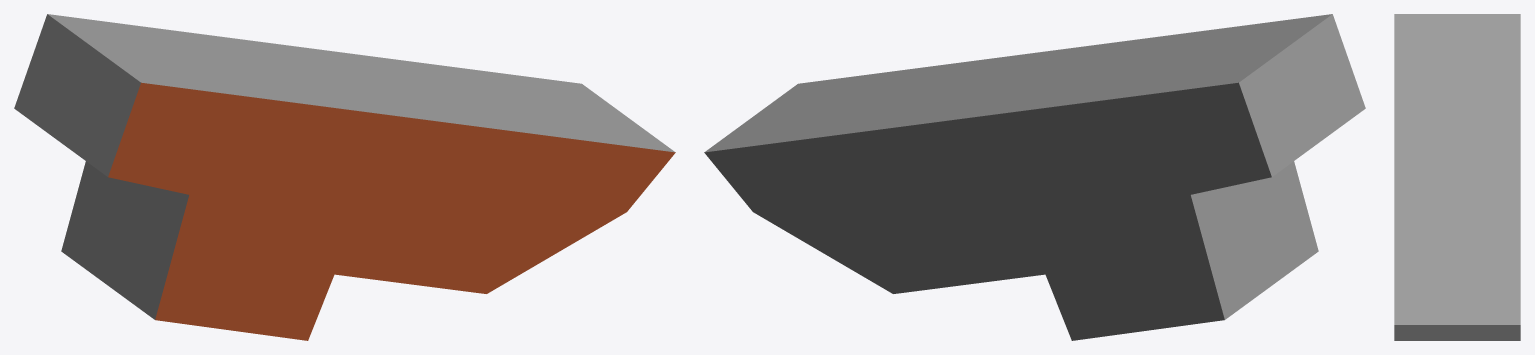
File: construction_0242_assumed_A_Casa_h6m.obj
The picture shows the model from 3 angles, left to right: view 1: azimuth 30°, elevation 25°; view 2: azimuth 150°, elevation 25°; view 3: azimuth 270°, elevation 25°; orthographic projection. The views are drawn at different scales.
Parts seen in each view (by area): view 1: construction_0242_assumed_A_Casa; view 2: construction_0242_assumed_A_Casa; view 3: construction_0242_assumed_A_Casa.
Part boxes in pixels (bbox=[...]): construction_0242_assumed_A_Casa: bbox=[14, 14, 675, 340]; construction_0242_assumed_A_Casa: bbox=[704, 14, 1365, 340]; construction_0242_assumed_A_Casa: bbox=[1394, 14, 1520, 340].
Size of the model in its own units: 20.95 by 10.54 by 6.
